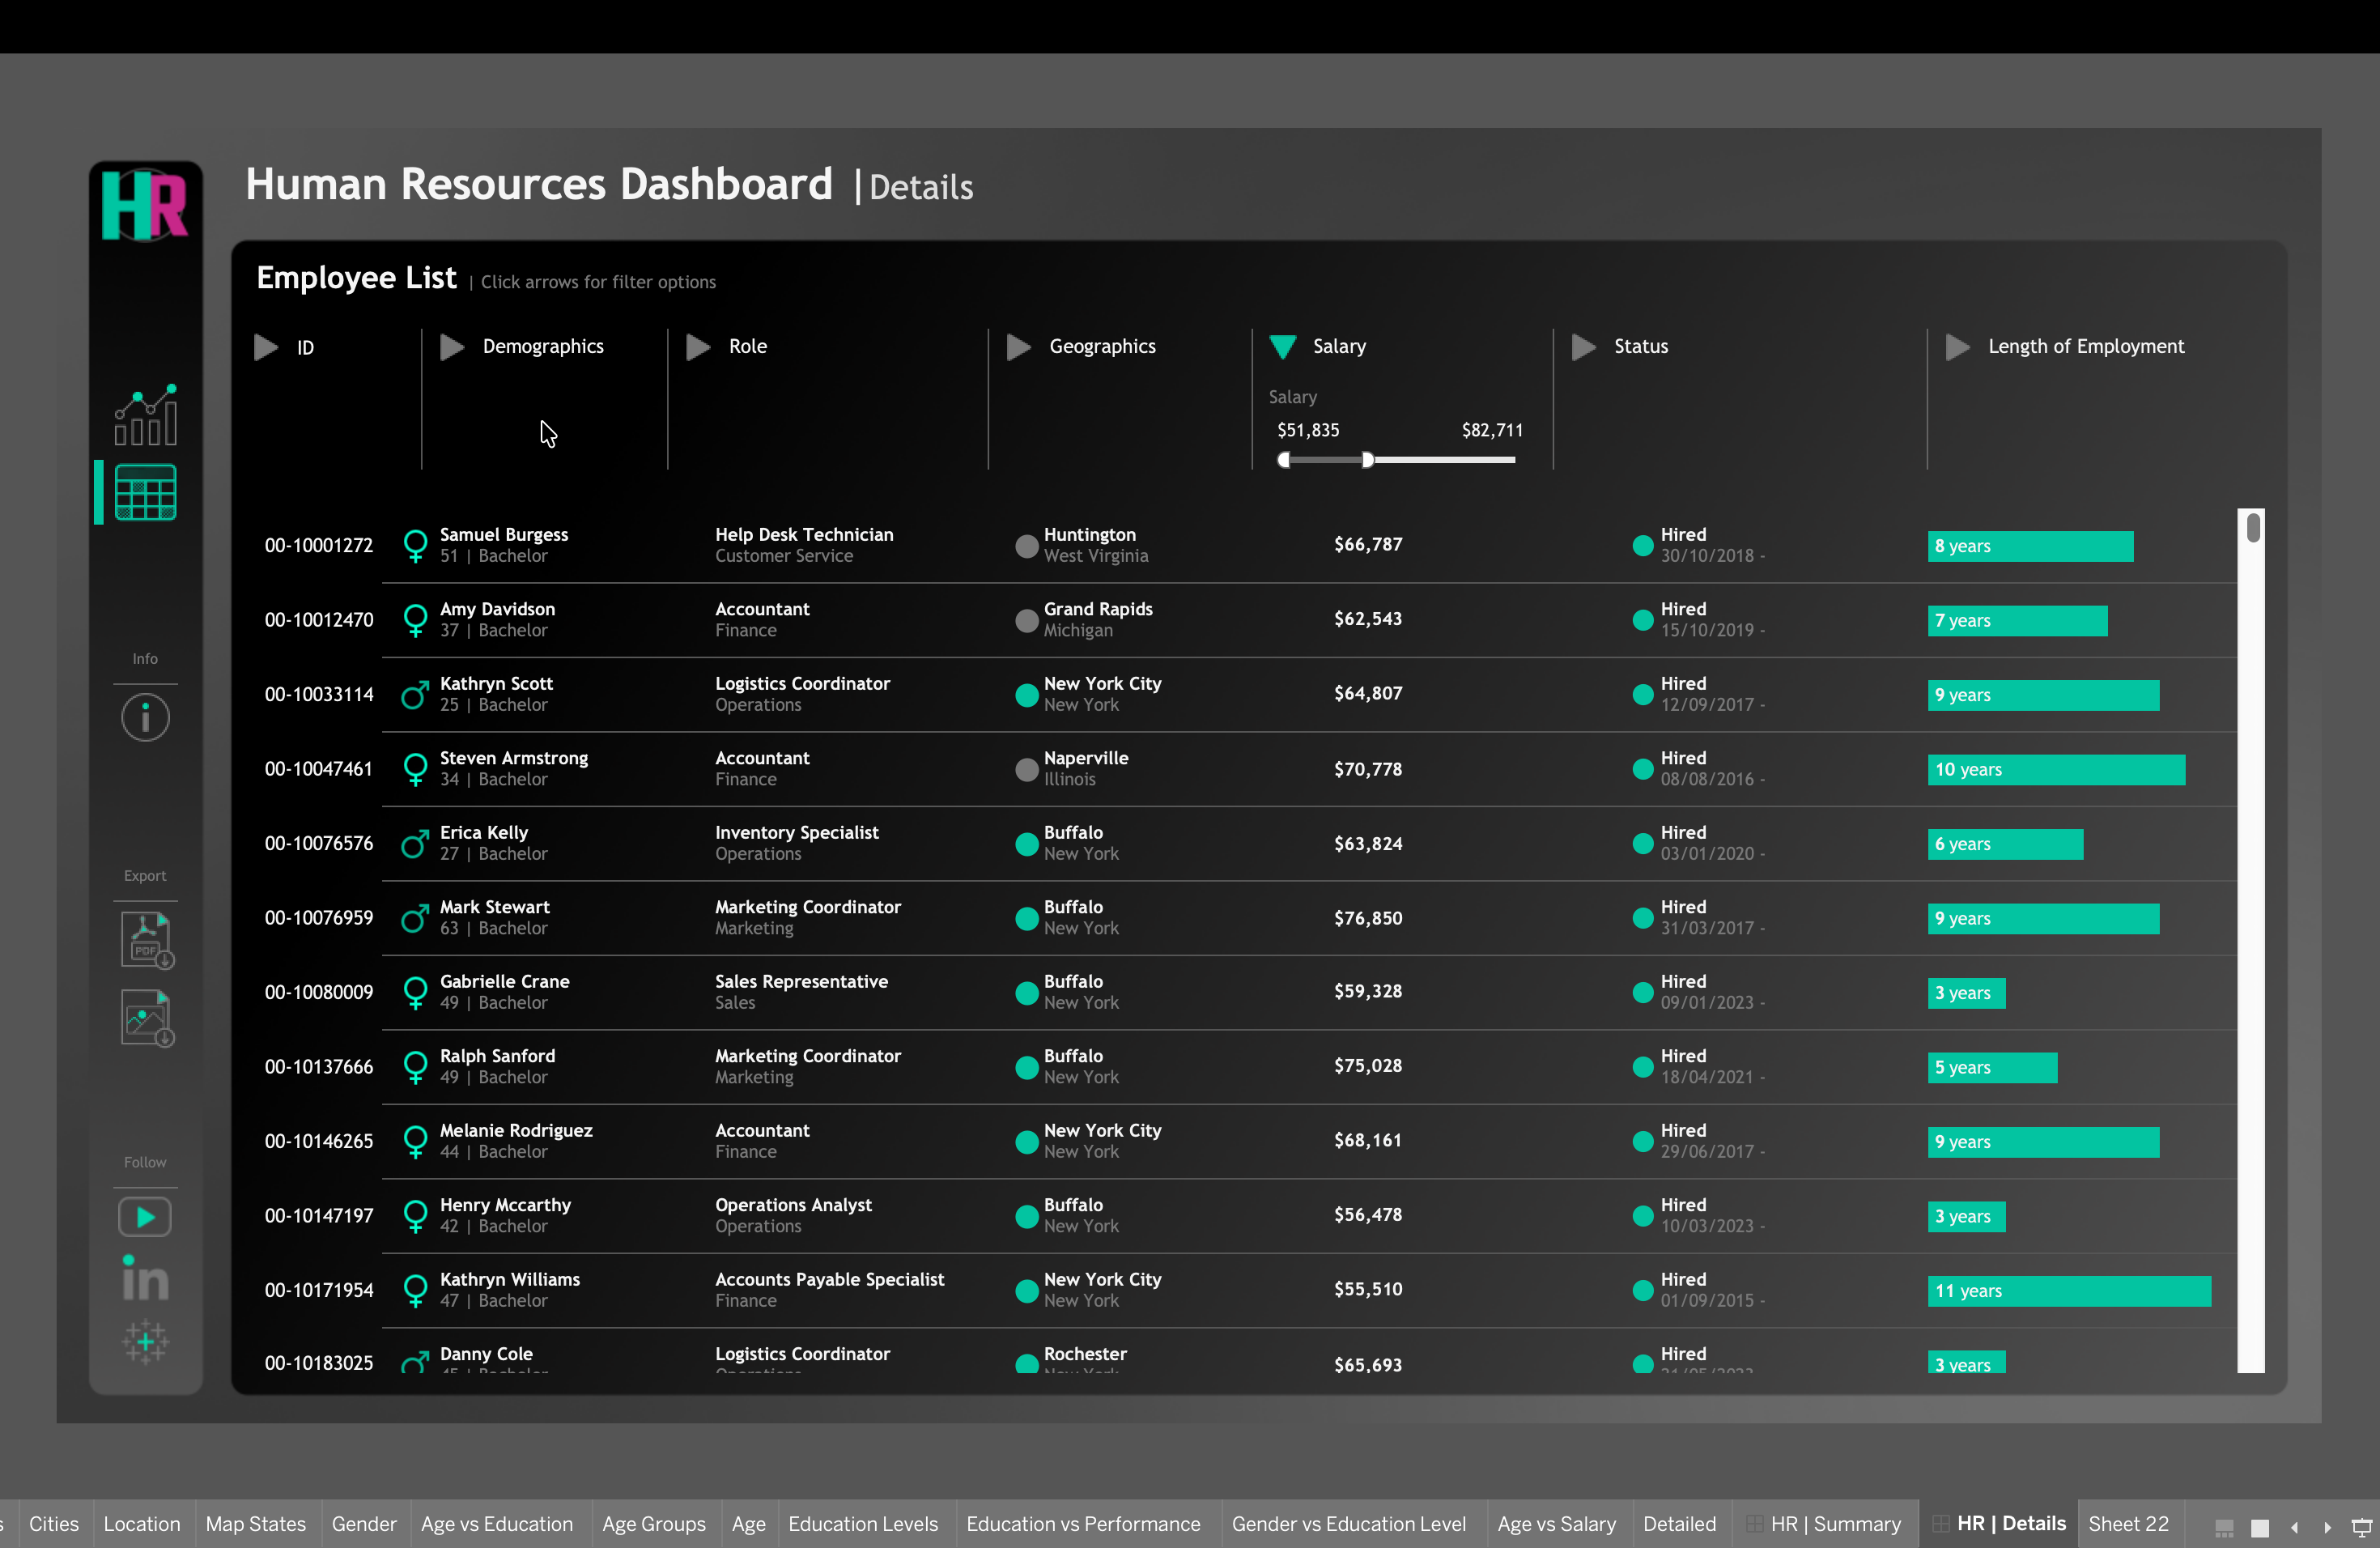

What the dashboard file says about the page in this screenshot:
{"tool":"tableau","page":{"name":"HR | Details","canvas":[1400,800],"ordinal":0},"visuals":[{"type":"image","param":"Image/background dashbaord details.png","box":[0,0,1400,800]},{"type":"blank","box":[90,0,1309,240]},{"type":"text","box":[110,0,673,70]},{"type":"blank","box":[783,0,597,70]},{"type":"image","param":"Image/Logo.png","box":[20,20,70,55]},{"type":"text","box":[117,77,1256,37]},{"type":"blank","box":[30,85,50,73.3]},{"type":"dashboard-object","box":[117,114,25,43]},{"type":"text","box":[142,114,77,43]},{"type":"blank","box":[219,114,13,107]},{"type":"dashboard-object","box":[232,114,25,42]},{"type":"text","box":[257,114,114,42]},{"type":"blank","box":[371,114,13,107]},{"type":"dashboard-object","box":[384,114,25,42]},{"type":"text","box":[409,114,160,42]},{"type":"blank","box":[569,114,13,107]},{"type":"dashboard-object","box":[582,114,25,42]},{"type":"text","box":[607,114,125,42]},{"type":"blank","box":[732,114,13,107]},{"type":"dashboard-object","box":[745,114,25,42]},{"type":"text","box":[770,114,148,42]},{"type":"blank","box":[918,114,13,107]},{"type":"dashboard-object","box":[931,114,25,42]},{"type":"text","box":[955.9,114,193.5,42]},{"type":"blank","box":[1149.5,114,13,107]},{"type":"dashboard-object","box":[1162.5,114,25,42]},{"type":"text","box":[1187.5,114,185.5,42]},{"type":"filter","title":"Detailed","param":"[federated.1uy6vyf0tya8w3119f4041qdymfc].[none:Calculation_990228993555632131:nk","box":[232,156,139,48]},{"type":"filter","title":"Detailed","param":"[federated.1uy6vyf0tya8w3119f4041qdymfc].[none:Job Title:nk]","box":[384,156,185,48]},{"type":"filter","title":"Detailed","param":"[federated.1uy6vyf0tya8w3119f4041qdymfc].[sum:Salary:qk]","box":[745,156,173,65]},{"type":"dashboard-object","box":[30,158.3,50,38]},{"type":"filter","title":"Detailed","param":"[federated.1uy6vyf0tya8w3119f4041qdymfc].[none:Calculation_3363625995846344715:n","box":[582,160,150,56]},{"type":"filter","title":"Detailed","param":"[federated.1uy6vyf0tya8w3119f4041qdymfc].[none:Calculation_2981664453132697602:n","box":[931,160,218.5,56]},{"type":"filter","title":"Detailed","param":"[federated.1uy6vyf0tya8w3119f4041qdymfc].[sum:Calculation_990228993560891399:qk]","box":[1162.5,160,210.5,68]},{"type":"filter","title":"Detailed","param":"[federated.1uy6vyf0tya8w3119f4041qdymfc].[none:Employee_ID:nk]","box":[117,161,102,53]},{"type":"blank","box":[30,196.3,50,10]},{"type":"filter","title":"Detailed","param":"[federated.1uy6vyf0tya8w3119f4041qdymfc].[none:Gender:nk]","box":[232,204,139,48]},{"type":"filter","title":"Detailed","param":"[federated.1uy6vyf0tya8w3119f4041qdymfc].[none:Department:nk]","box":[384,204,185,48]},{"type":"blank","box":[23,205,6,40]},{"type":"dashboard-object","box":[30,206.3,50,38]},{"type":"filter","title":"Detailed","param":"[federated.1uy6vyf0tya8w3119f4041qdymfc].[none:State:nk]","box":[582,216,150,56]},{"type":"filter","title":"Detailed","param":"[federated.1uy6vyf0tya8w3119f4041qdymfc].[yr:Hiredate:ok]","box":[931,216,218.5,56]},{"type":"worksheet","title":"Detailed","mark":"Shape","rows":["Employee_ID"],"cols":["Calculation_990228993555034113","Calculation_990228993555034113","Calculation_990228993555034113","Calculation_990228993555034113","Calculation_990228993555034113","Calculation_990228993560891399"],"box":[117,231,1256,542]},{"type":"text","box":[90,240,1309,320]},{"type":"blank","box":[30,244.3,50,73.3]},{"type":"filter","title":"Detailed","param":"[federated.1uy6vyf0tya8w3119f4041qdymfc].[none:Calculation_3363625995862552598:n","box":[232,252,139,48]},{"type":"filter","title":"Detailed","param":"[federated.1uy6vyf0tya8w3119f4041qdymfc].[none:City:nk]","box":[582,272,150,56]},{"type":"filter","title":"Detailed","param":"[federated.1uy6vyf0tya8w3119f4041qdymfc].[yr:Termdate:ok]","box":[931,272,218.5,56]},{"type":"filter","title":"Detailed","param":"[federated.1uy6vyf0tya8w3119f4041qdymfc].[none:Education Level:nk]","box":[232,300,139,48]},{"type":"text","box":[30,317.7,50,20]},{"type":"blank","box":[30,337.7,50,11]},{"type":"dashboard-object","box":[30,348.7,50,30]},{"type":"blank","box":[30,378.7,50,73.3]},{"type":"text","box":[30,452,50,20]},{"type":"blank","box":[30,472,50,11]},{"type":"dashboard-object","box":[30,483,50,38]},{"type":"blank","box":[30,521,50,10]},{"type":"dashboard-object","box":[30,531,50,38]},{"type":"blank","box":[90,560,1309,240]},{"type":"blank","box":[30,569,50,60]},{"type":"text","box":[30,629,50,20]},{"type":"blank","box":[30,649,50,11]},{"type":"image","param":"Image/contact-channel.png","box":[30,660,50,25]},{"type":"blank","box":[30,685,50,10]},{"type":"image","param":"Image/contact-linkedin.png","box":[30,695,50,30]},{"type":"blank","box":[30,725,50,10]},{"type":"image","param":"Image/contact-public.png","box":[30,735,50,30]}]}

Visuals, with their boxes on the page's 1400x800 design canvas (x1, y1, x2, y2). These are canvas units, not pixel positions in the 2380x1548 screenshot, which may show the page scaled, cropped or inside an application window:
image: 0,0,1400,800
blank: 90,0,1399,240
text: 110,0,783,70
blank: 783,0,1380,70
image: 20,20,90,75
text: 117,77,1373,114
blank: 30,85,80,158
dashboard-object: 117,114,142,157
text: 142,114,219,157
blank: 219,114,232,221
dashboard-object: 232,114,257,156
text: 257,114,371,156
blank: 371,114,384,221
dashboard-object: 384,114,409,156
text: 409,114,569,156
blank: 569,114,582,221
dashboard-object: 582,114,607,156
text: 607,114,732,156
blank: 732,114,745,221
dashboard-object: 745,114,770,156
text: 770,114,918,156
blank: 918,114,931,221
dashboard-object: 931,114,956,156
text: 956,114,1149,156
blank: 1150,114,1162,221
dashboard-object: 1162,114,1188,156
text: 1188,114,1373,156
"Detailed" filter: 232,156,371,204
"Detailed" filter: 384,156,569,204
"Detailed" filter: 745,156,918,221
dashboard-object: 30,158,80,196
"Detailed" filter: 582,160,732,216
"Detailed" filter: 931,160,1150,216
"Detailed" filter: 1162,160,1373,228
"Detailed" filter: 117,161,219,214
blank: 30,196,80,206
"Detailed" filter: 232,204,371,252
"Detailed" filter: 384,204,569,252
blank: 23,205,29,245
dashboard-object: 30,206,80,244
"Detailed" filter: 582,216,732,272
"Detailed" filter: 931,216,1150,272
"Detailed" worksheet (Shape marks): 117,231,1373,773
text: 90,240,1399,560
blank: 30,244,80,318
"Detailed" filter: 232,252,371,300
"Detailed" filter: 582,272,732,328
"Detailed" filter: 931,272,1150,328
"Detailed" filter: 232,300,371,348
text: 30,318,80,338
blank: 30,338,80,349
dashboard-object: 30,349,80,379
blank: 30,379,80,452
text: 30,452,80,472
blank: 30,472,80,483
dashboard-object: 30,483,80,521
blank: 30,521,80,531
dashboard-object: 30,531,80,569
blank: 90,560,1399,800
blank: 30,569,80,629
text: 30,629,80,649
blank: 30,649,80,660
image: 30,660,80,685
blank: 30,685,80,695
image: 30,695,80,725
blank: 30,725,80,735
image: 30,735,80,765
